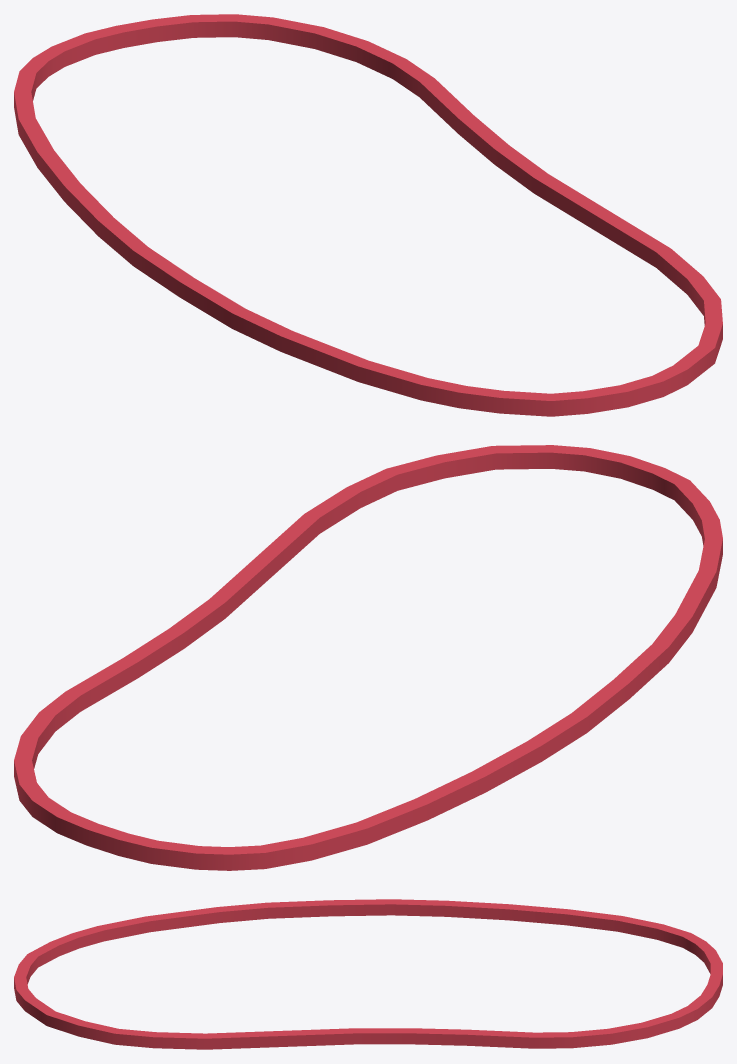
The model's file is Silicon.glb.
3 renders of one model, top to bottom at view 1: azimuth 30°, elevation 25°; view 2: azimuth 150°, elevation 25°; view 3: azimuth 270°, elevation 25°, orthographic. The views are drawn at different scales.
Parts seen in each view (by area): view 1: RubberBand_RubberBand_0; view 2: RubberBand_RubberBand_0; view 3: RubberBand_RubberBand_0.
Part boxes in pixels (left/top/right/bottom): RubberBand_RubberBand_0: left=14, top=14, right=722, bottom=416; RubberBand_RubberBand_0: left=14, top=445, right=722, bottom=870; RubberBand_RubberBand_0: left=14, top=899, right=722, bottom=1049.
Bounding box in the file's own units: 0.0271 × 0.001 × 0.0583.
Materials: 1 (1 with a texture image).
